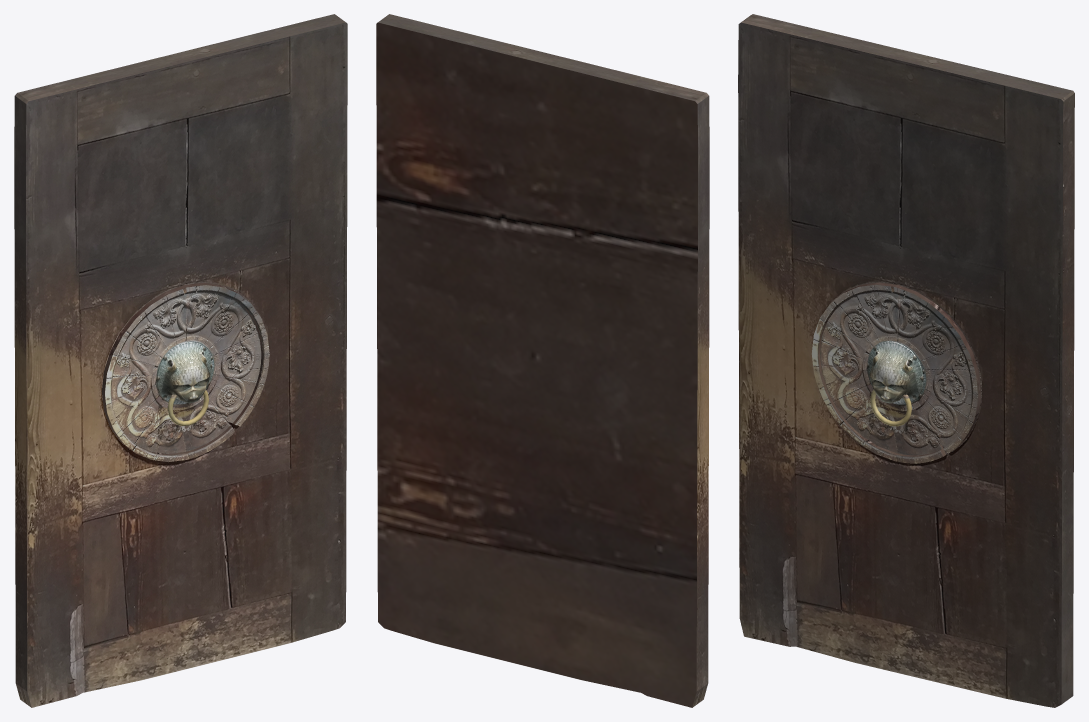
3 views of the same model, side by side, from view 1: azimuth 30°, elevation 25°; view 2: azimuth 150°, elevation 25°; view 3: azimuth 330°, elevation 25° (orthographic).
Parts seen in each view (by area): view 1: Line001; view 2: Line001; view 3: Line001.
Part boxes in pixels (bbox=[...]): Line001: bbox=[14, 14, 347, 707]; Line001: bbox=[376, 14, 709, 707]; Line001: bbox=[738, 14, 1074, 707].
Bounding box in the file's own units: 96.36 × 174 × 12.09.
Materials: 1 (1 with a texture image).
